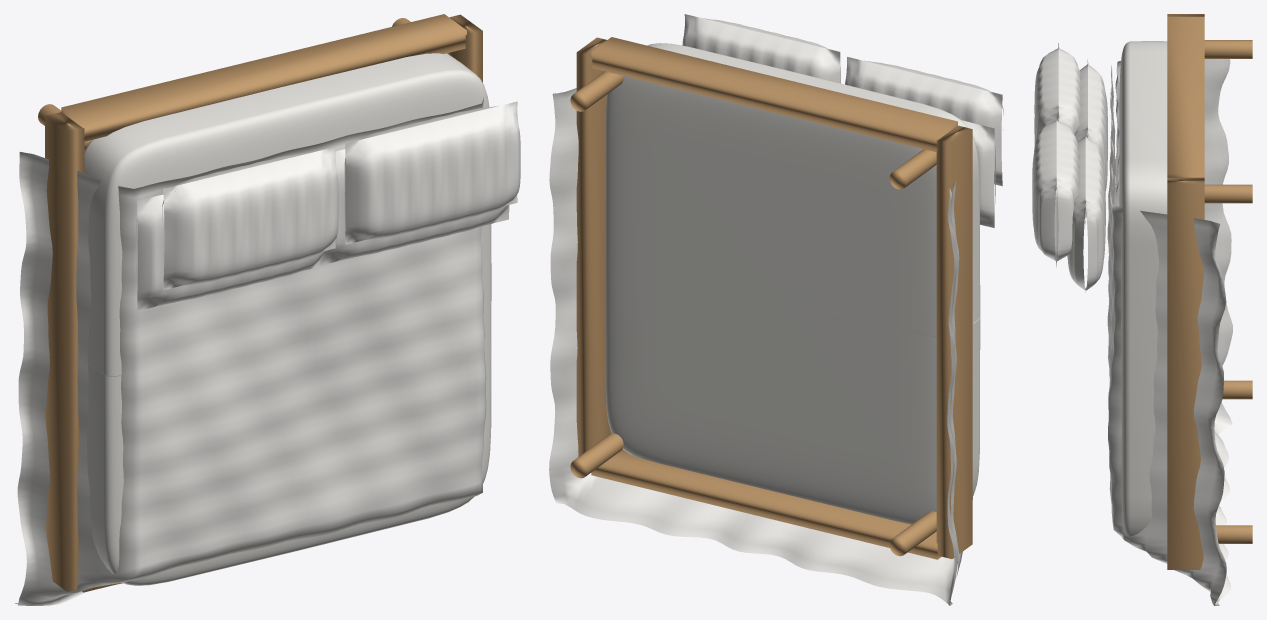
File: bed.glb
3 renders of one model, left to right at view 1: azimuth 30°, elevation 25°; view 2: azimuth 150°, elevation 25°; view 3: azimuth 270°, elevation 25°, orthographic. The views are drawn at different scales.
Visible parts, largest first — view 1: soft linen duvet, rounded mattress, upper right pillow, upper left pillow, left wood rail, head wood rail, lower left pillow, lower right pillow, right wood rail; view 2: rounded mattress, soft linen duvet, left wood rail, head wood rail, right wood rail, foot wood rail, upper left pillow, upper right pillow, tapered wood leg (×4), lower left pillow; view 3: soft linen duvet, rounded mattress, right wood rail, head wood rail, upper right pillow, lower right pillow, upper left pillow, tapered wood leg (×4), lower left pillow.
Boxes of the visible parts, x1,y1,x2,y2 form: soft linen duvet: (15,97,486,605); rounded mattress: (84,53,491,585); upper right pillow: (344,101,520,244); upper left pillow: (162,147,338,290); left wood rail: (45,112,84,591); head wood rail: (61,14,466,141); lower left pillow: (136,194,326,310); lower right pillow: (319,149,509,265); right wood rail: (449,14,482,82); rounded mattress: (605,43,980,524); soft linen duvet: (549,88,972,605); left wood rail: (936,125,972,558); head wood rail: (591,37,957,152); right wood rail: (576,37,611,456); foot wood rail: (591,449,941,559); upper left pillow: (845,57,1003,186); upper right pillow: (682,14,840,83); tapered wood leg (×4): (570,71,936,556); lower left pillow: (961,120,995,227); soft linen duvet: (1107,59,1232,605); rounded mattress: (1119,41,1167,536); right wood rail: (1167,177,1204,569); head wood rail: (1167,16,1204,177); upper right pillow: (1032,117,1079,266); lower right pillow: (1067,129,1105,292); upper left pillow: (1034,43,1081,144); tapered wood leg (×4): (1204,40,1252,543); lower left pillow: (1074,59,1107,217).
Bounding box in the file's own units: 2.06 × 2.22 × 1.06.
